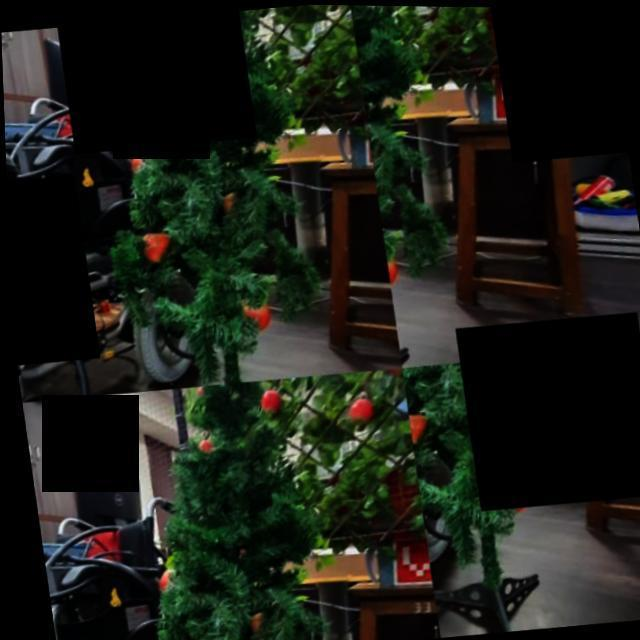tree: (1, 12, 234, 405), (92, 369, 380, 640), (398, 345, 640, 639), (350, 4, 529, 368)
